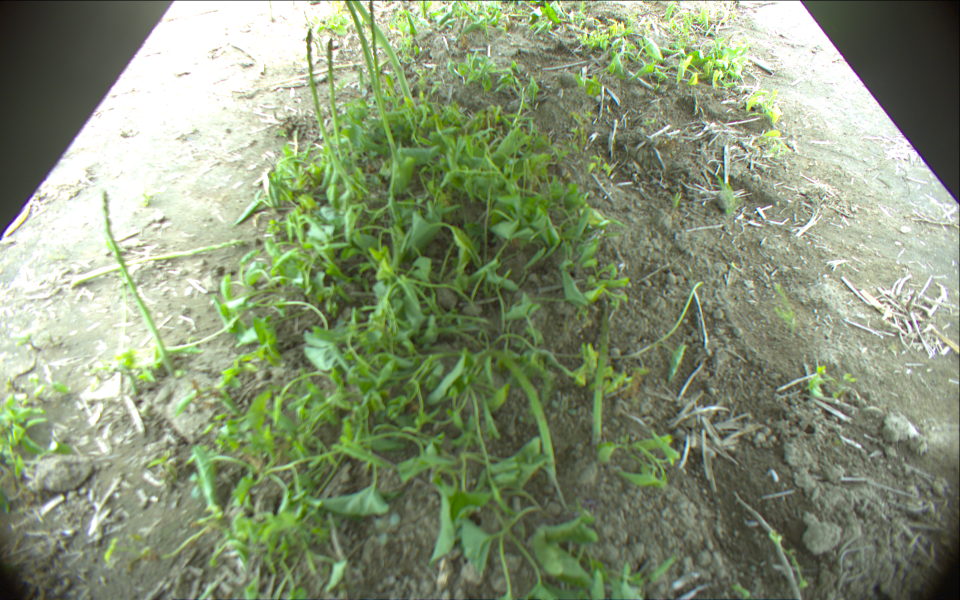aspa: (99, 189, 174, 371), (477, 348, 558, 484), (70, 231, 260, 288), (344, 1, 397, 158), (352, 1, 418, 108), (305, 29, 349, 185), (594, 297, 617, 444), (326, 35, 344, 157), (365, 1, 380, 105)
